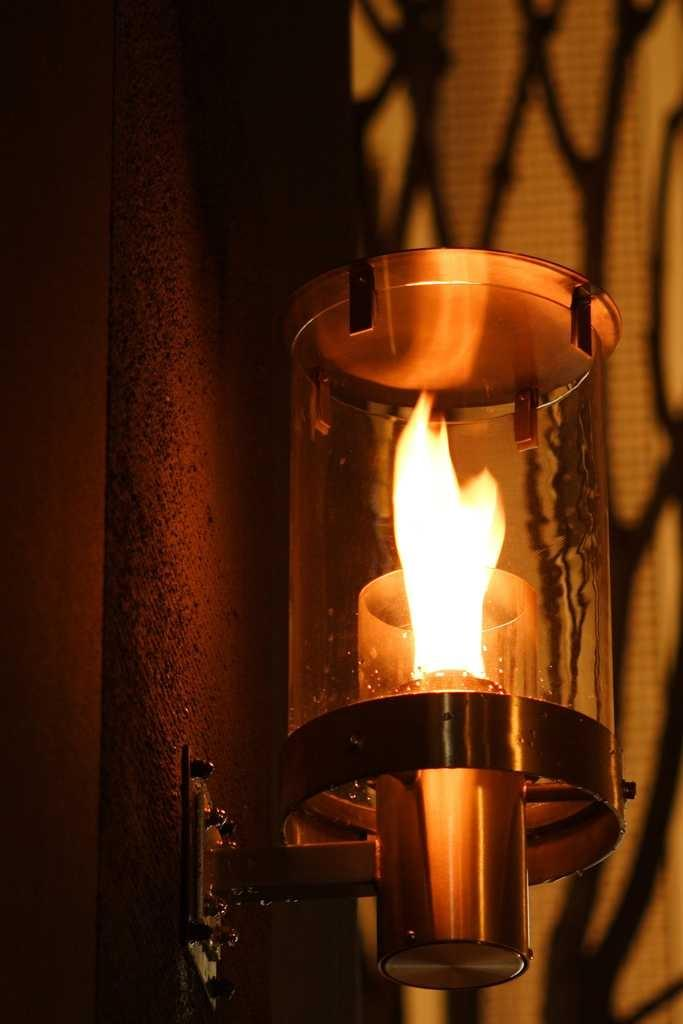fire: (374, 427, 531, 669)
